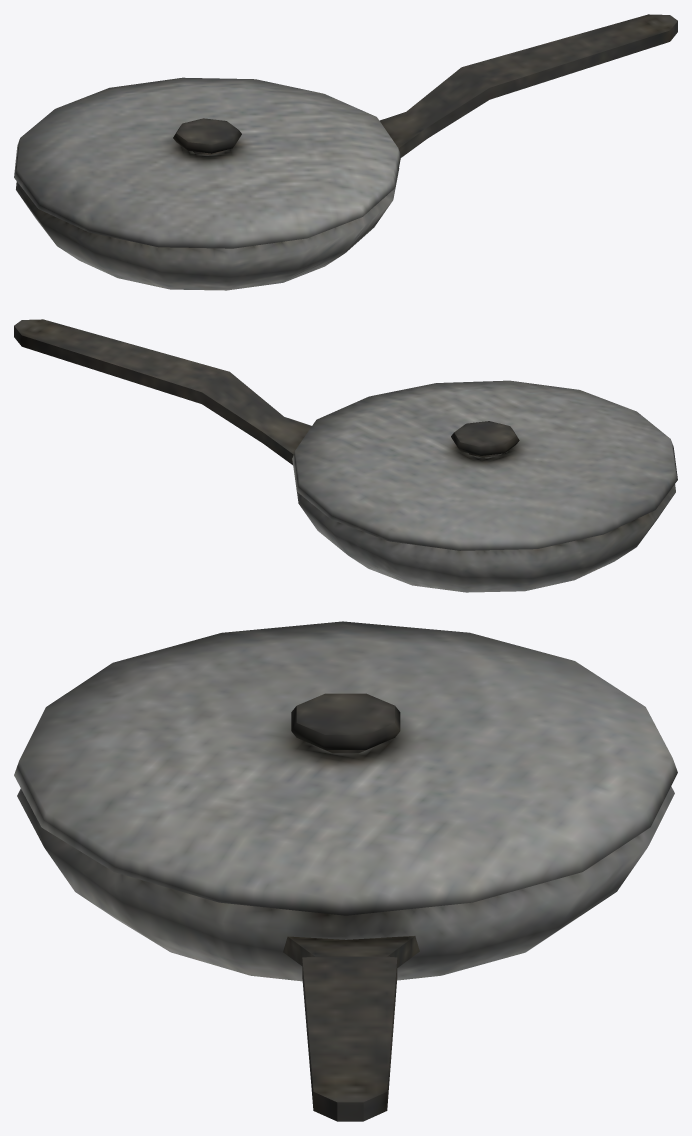
The model's file is Pan_Closed.FBX.
3 renders of one model, top to bottom at view 1: azimuth 30°, elevation 25°; view 2: azimuth 150°, elevation 25°; view 3: azimuth 270°, elevation 25°, orthographic. The views are drawn at different scales.
Visible parts, largest first — view 1: Pan_Closed; view 2: Pan_Closed; view 3: Pan_Closed.
Boxes of the visible parts, x1,y1,x2,y2 form: Pan_Closed: (14, 14, 677, 290); Pan_Closed: (14, 319, 677, 592); Pan_Closed: (14, 621, 677, 1121).
Size of the model in its own units: 52.5 by 8.16 by 28.01.
